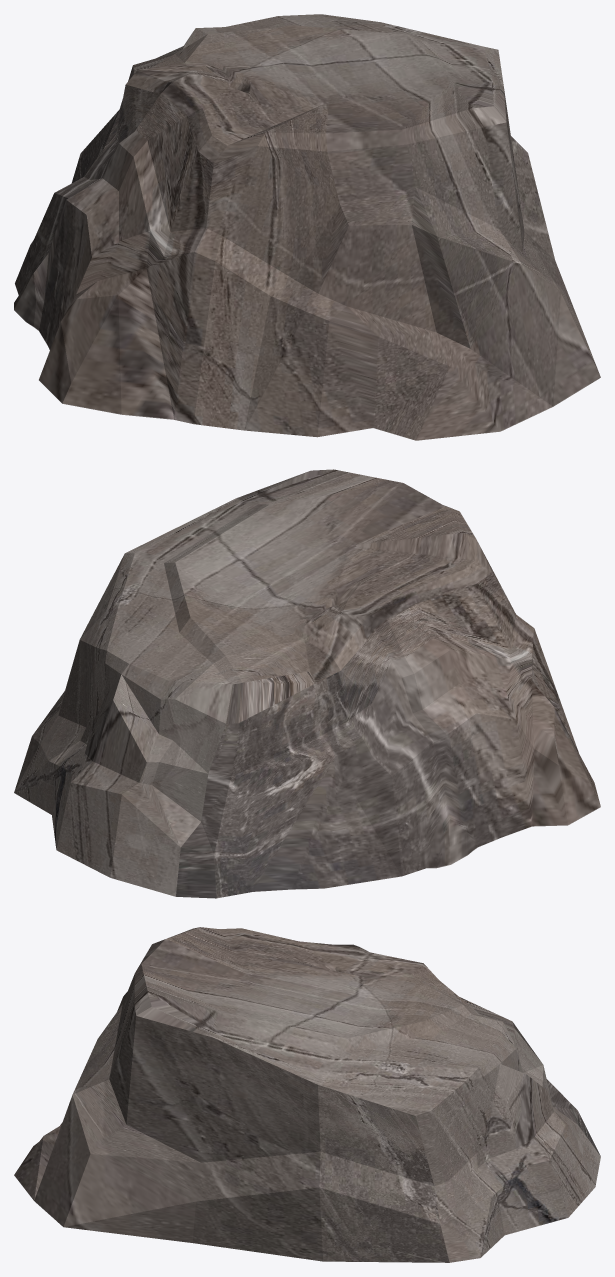
Rendered from stone.fbx.
The picture shows the model from 3 angles, top to bottom: view 1: azimuth 30°, elevation 25°; view 2: azimuth 150°, elevation 25°; view 3: azimuth 270°, elevation 25°; orthographic projection. The views are drawn at different scales.
Parts seen in each view (by area): view 1: pCube1; view 2: pCube1; view 3: pCube1.
Part boxes in pixels (bbox=[...]): pCube1: bbox=[14, 14, 600, 440]; pCube1: bbox=[14, 469, 600, 898]; pCube1: bbox=[14, 927, 600, 1262].
Size of the model in its own units: 13.82 by 6.35 by 16.55.
